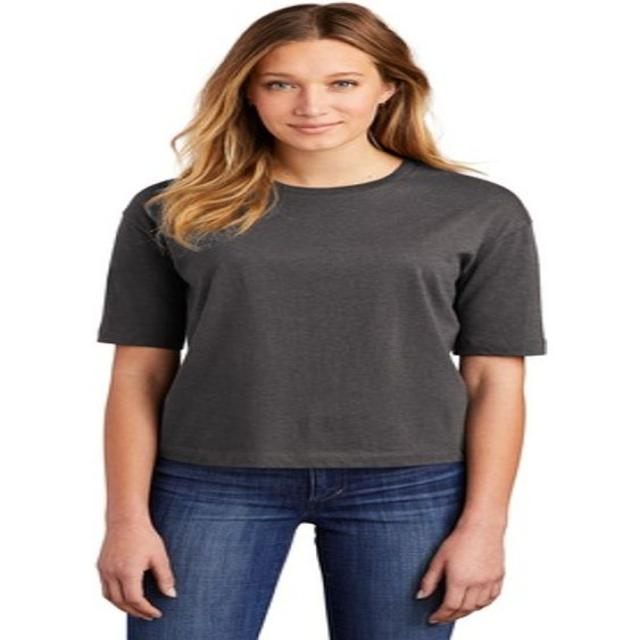Upper-Body: (96, 164, 547, 465)
